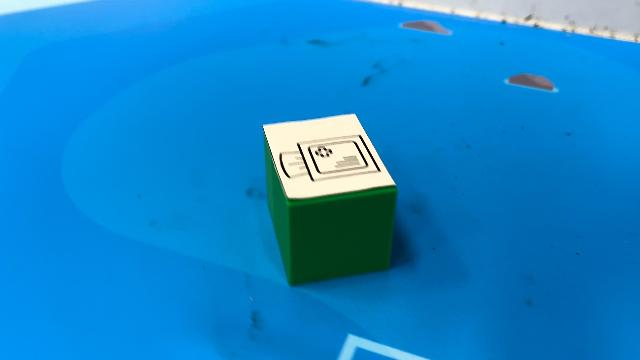napkin: (261, 112, 399, 286)
